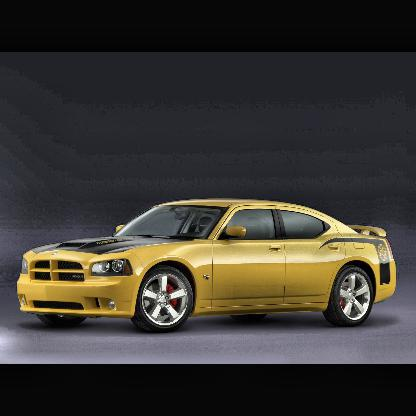Dodge Charger SRT-8 2009: (16, 199, 398, 333)
